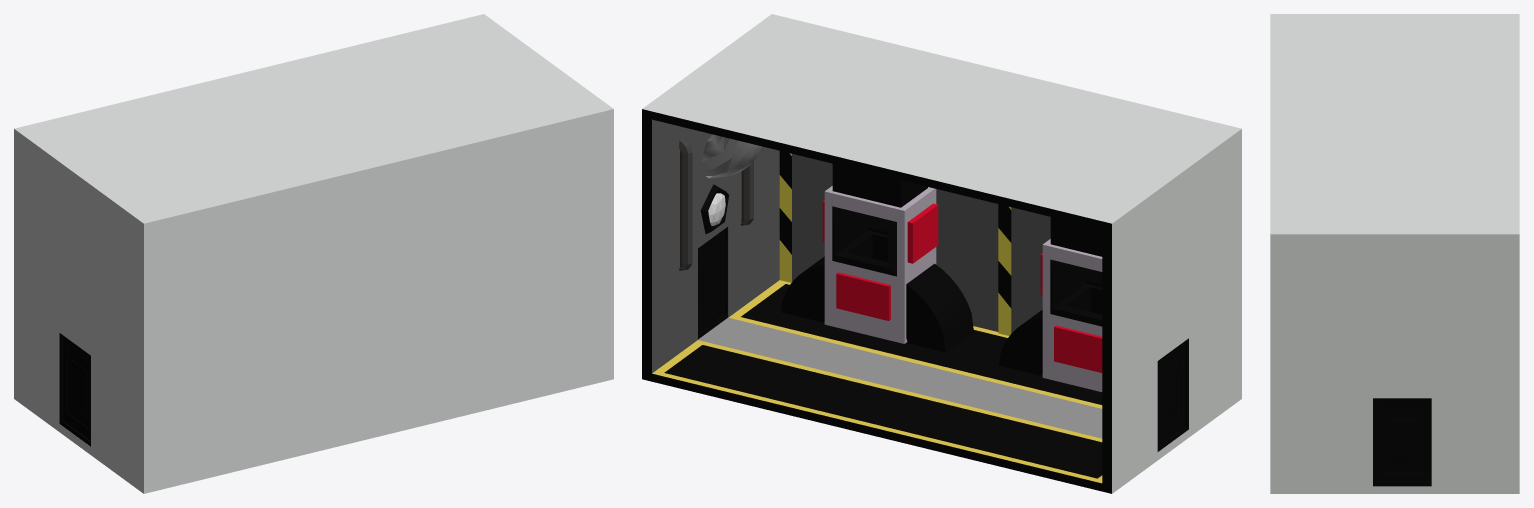
Rendered from EscapePodsRoom.fbx.
The picture shows the model from 3 angles, left to right: view 1: azimuth 30°, elevation 25°; view 2: azimuth 150°, elevation 25°; view 3: azimuth 270°, elevation 25°; orthographic projection. The views are drawn at different scales.
Parts seen in each view (by area): view 1: BaseRoom, DoorRight; view 2: BaseRoom, PodLeft, PodRight, DoorRight, DoorLeft, PipeLeft, HazardSign, Hazard.001, Pipe.001, Pipe; view 3: BaseRoom, DoorLeft.
Part boxes in pixels (left/top/right/bottom): BaseRoom: left=14, top=14, right=613, bottom=493; DoorRight: left=59, top=333, right=90, bottom=446; BaseRoom: left=642, top=14, right=1241, bottom=493; PodLeft: left=781, top=164, right=973, bottom=352; PodRight: left=998, top=217, right=1102, bottom=391; DoorRight: left=1157, top=338, right=1188, bottom=451; DoorLeft: left=698, top=227, right=727, bottom=339; PipeLeft: left=702, top=134, right=763, bottom=178; HazardSign: left=998, top=204, right=1011, bottom=335; Hazard.001: left=779, top=151, right=791, bottom=282; Pipe.001: left=679, top=136, right=692, bottom=270; Pipe: left=740, top=161, right=753, bottom=225; BaseRoom: left=1270, top=14, right=1519, bottom=493; DoorLeft: left=1373, top=398, right=1431, bottom=486.
Bounding box in the file's own units: 1806 × 992 × 864.
